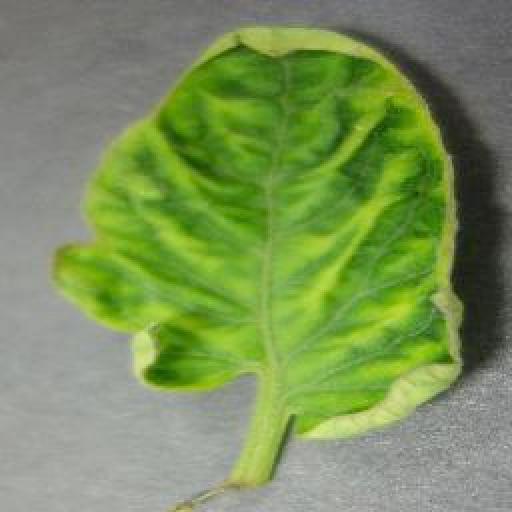disease_tomato: (55, 26, 465, 438)
